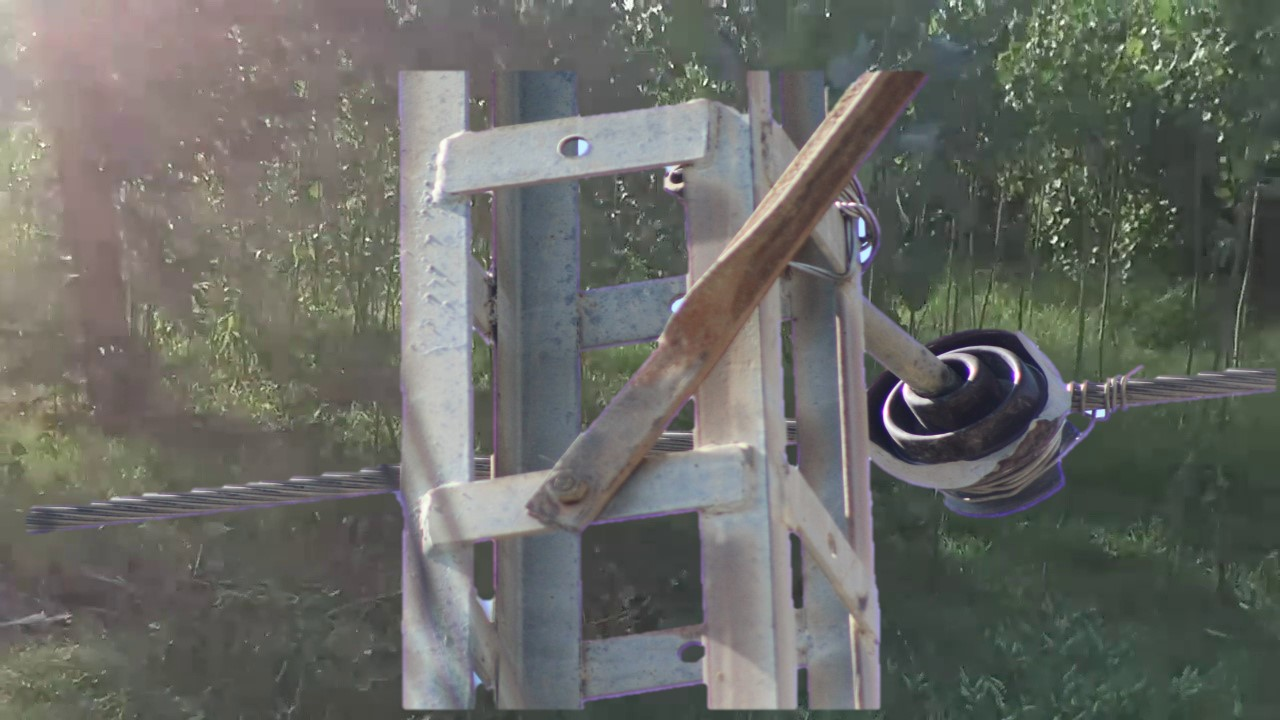defect_pin: (866, 316, 1100, 536)
